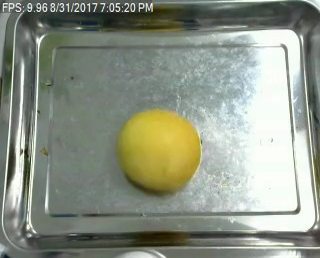Mango: (114, 111, 201, 192)
